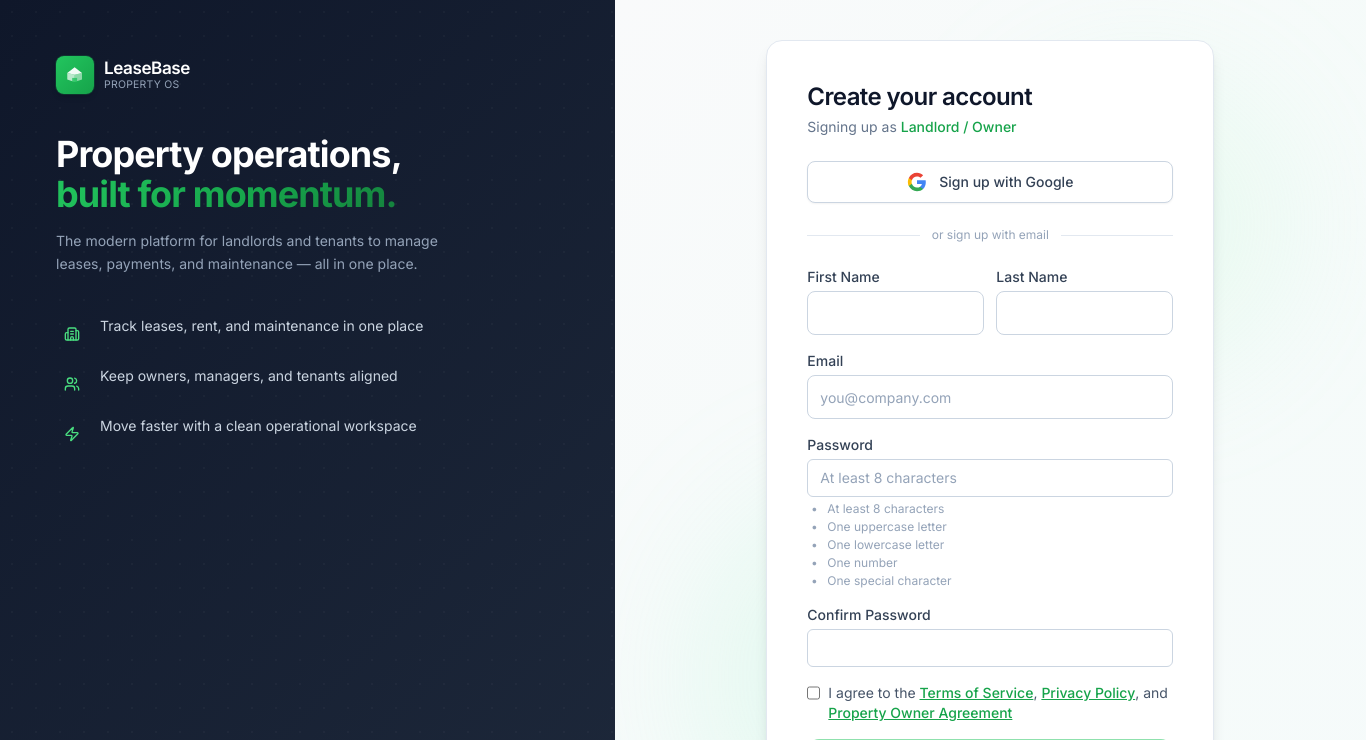
Test: Register page — password validation UX › shows inline mismatch error when confirm password differs
Type "Smoke" into the field labelled "First Name". click: (896, 313)
box: left=807, top=291, right=984, bottom=335
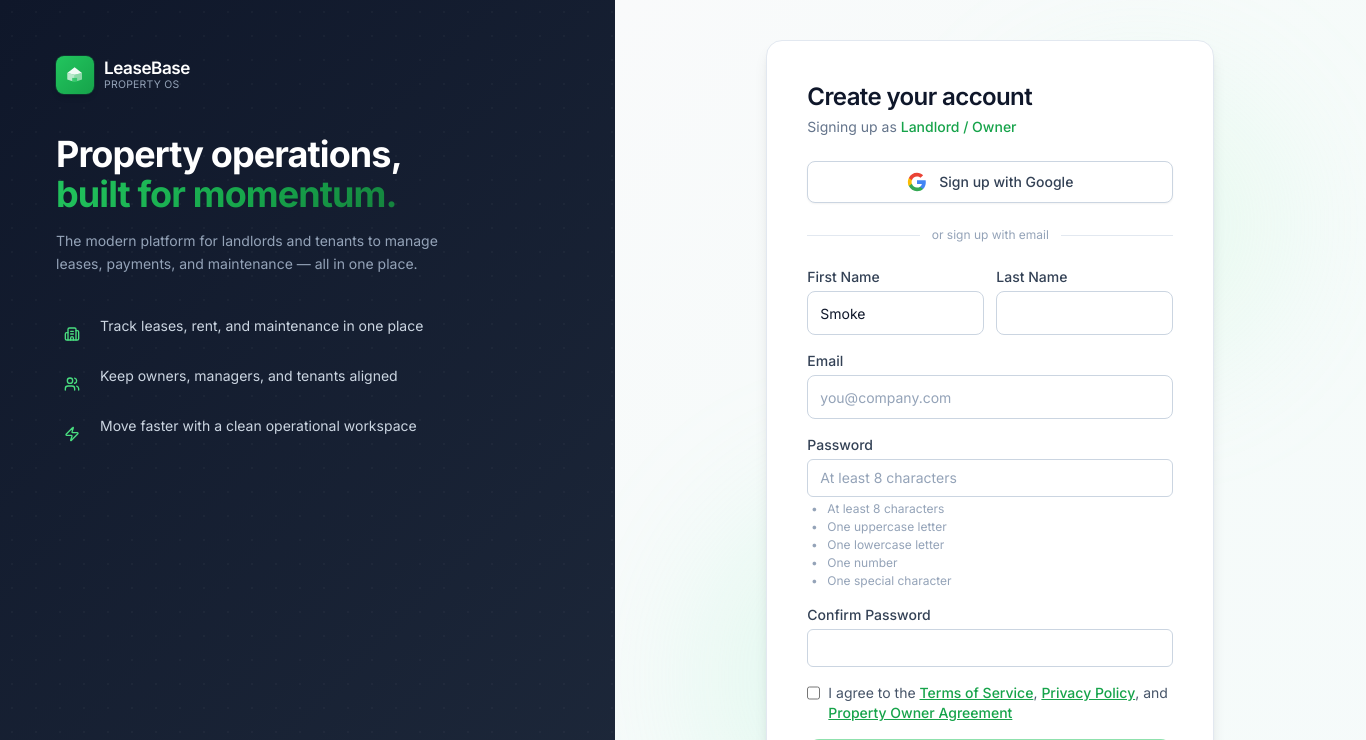
Type "Test" into the field labelled "Last Name". click: (1085, 313)
box: left=996, top=291, right=1173, bottom=335
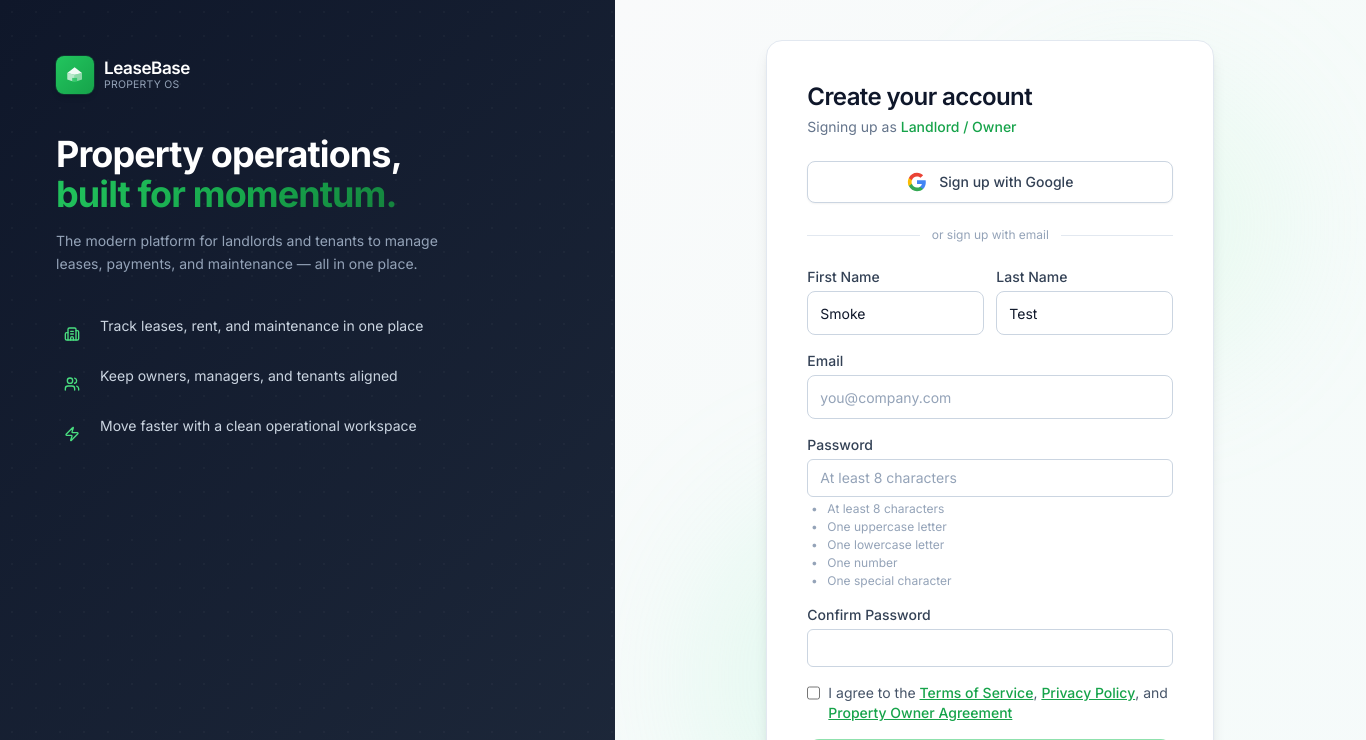
Type "a@b.co" into the field labelled "Email". click: (990, 397)
box: left=807, top=375, right=1173, bottom=419
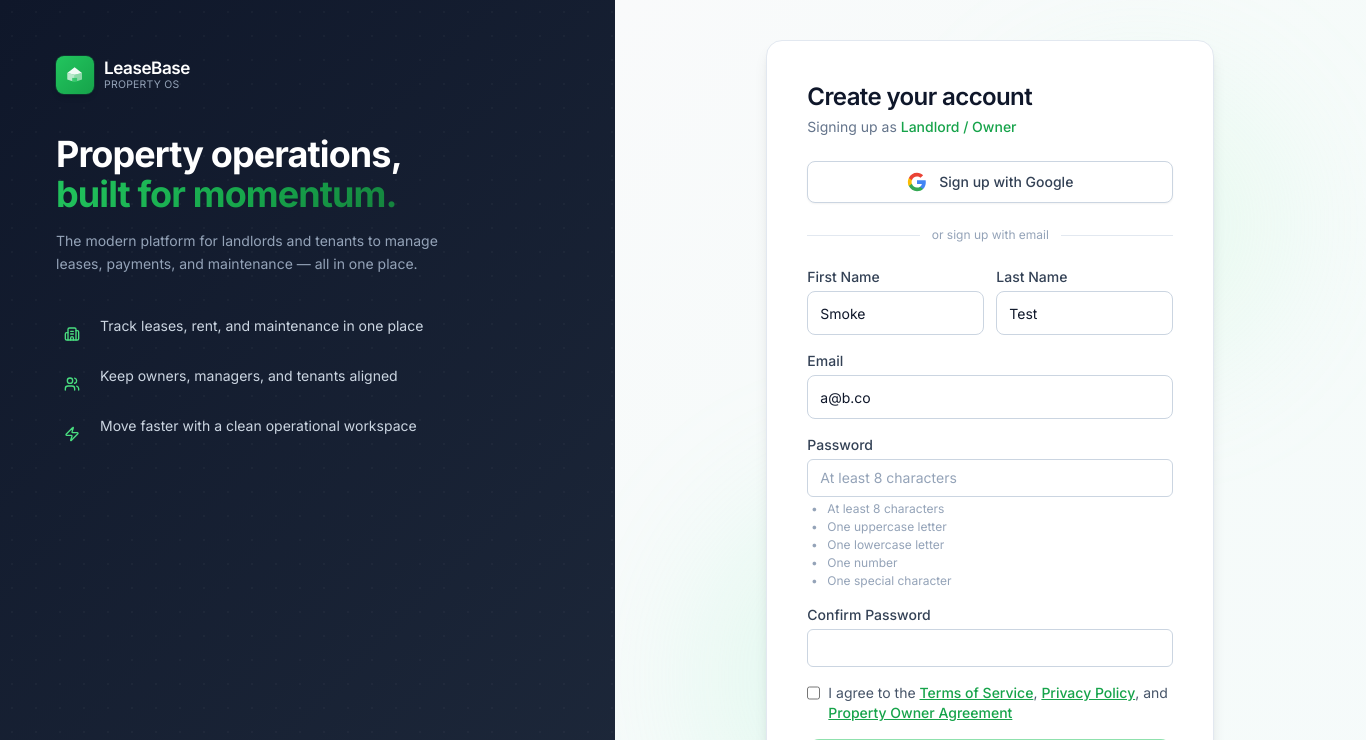
Type "GoodP@ss1" into the password field labelled "Password". click: (990, 478)
box: left=807, top=459, right=1173, bottom=497
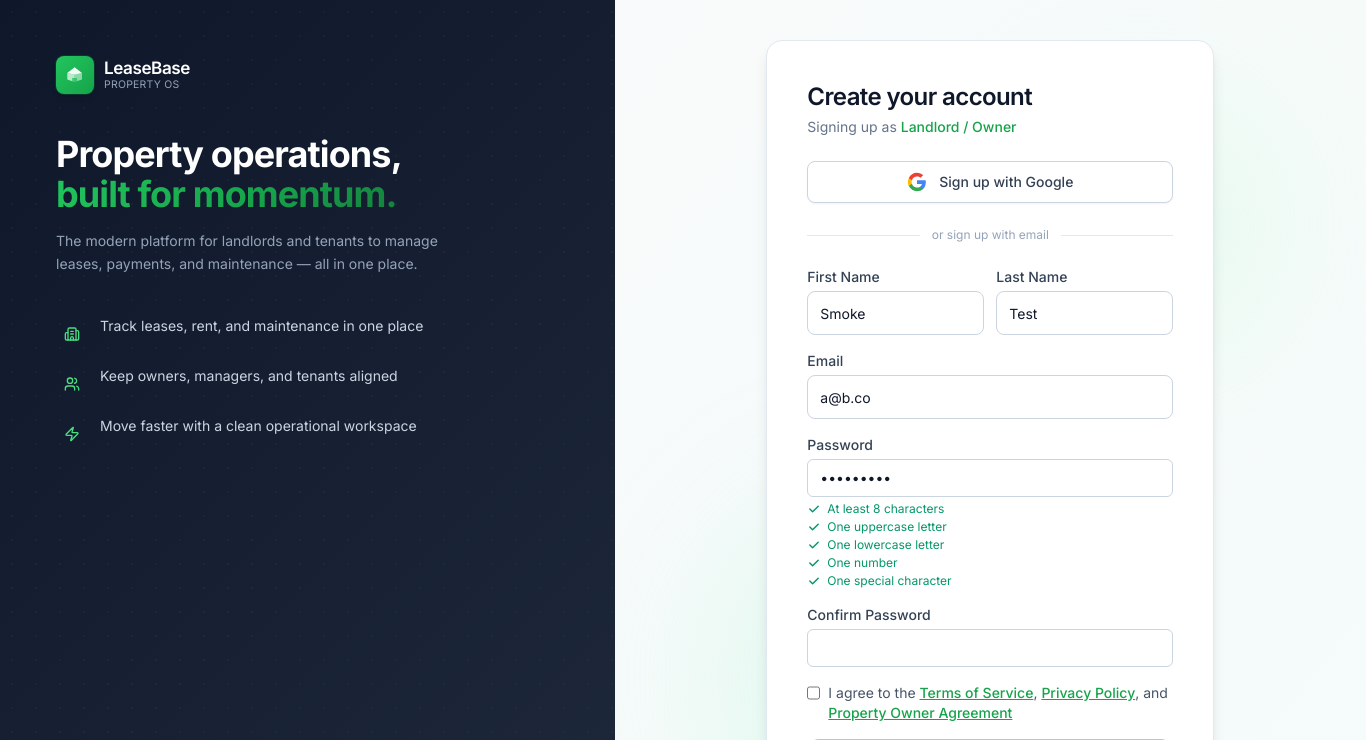
Type "Nope" into the password field labelled "Confirm Password". click: (990, 648)
box: left=807, top=629, right=1173, bottom=667
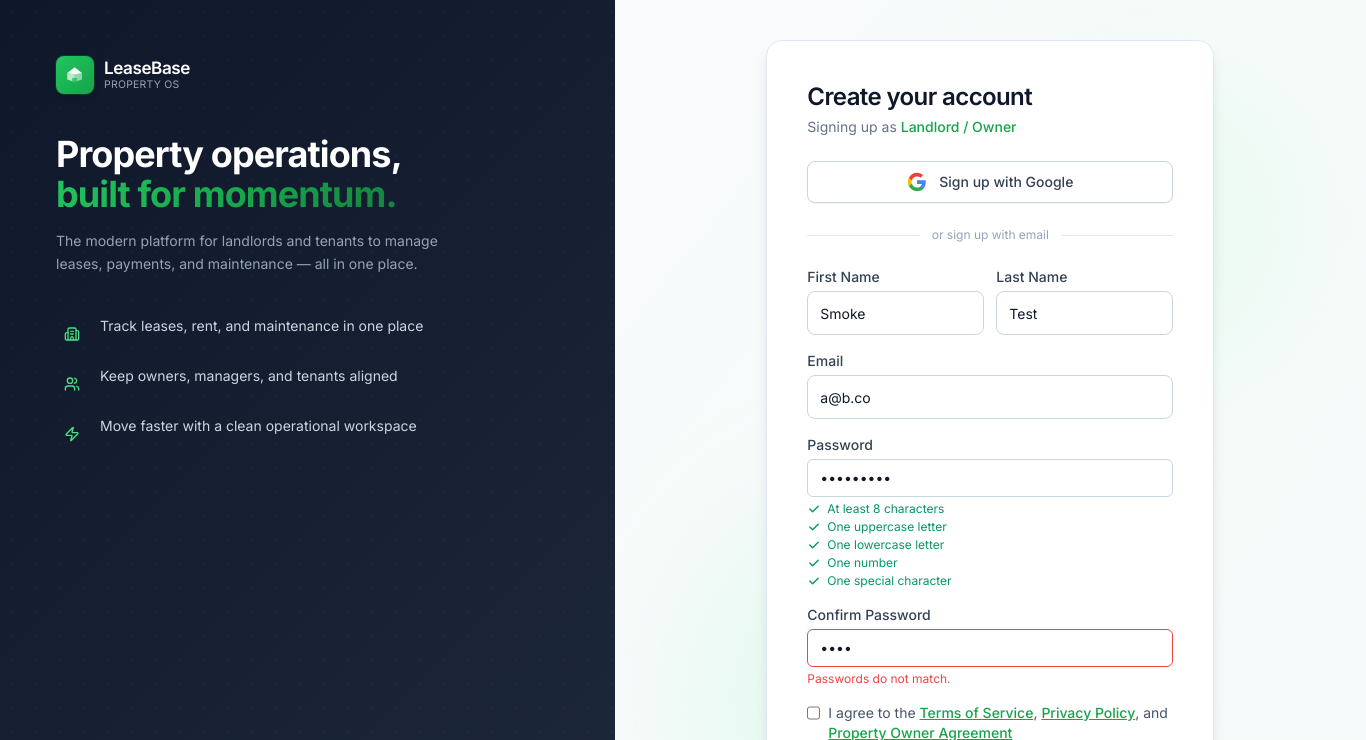
Check: the text "Passwords do not match." is shown, box left=807, top=671, right=950, bottom=686
